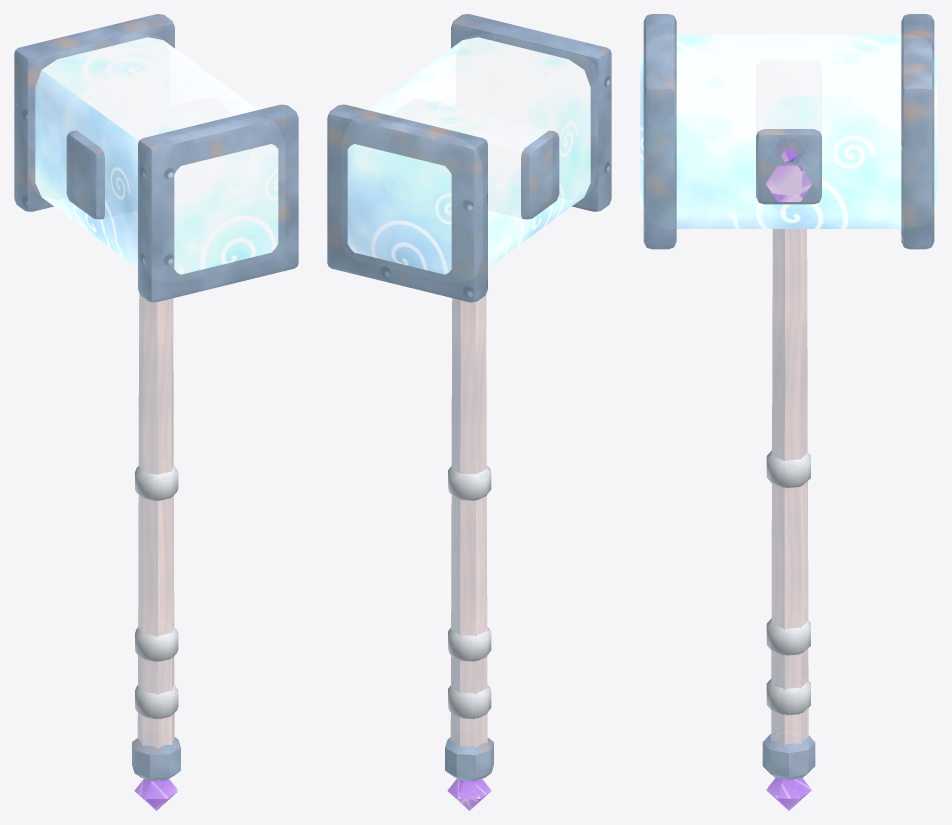
Rendered from sledgehammer_t3.gltf.
The picture shows the model from 3 angles, left to right: view 1: azimuth 30°, elevation 25°; view 2: azimuth 150°, elevation 25°; view 3: azimuth 270°, elevation 25°; orthographic projection. The views are drawn at different scales.
Visible parts, largest first — view 1: sledgehammer_t3_mesh; view 2: sledgehammer_t3_mesh; view 3: sledgehammer_t3_mesh.
Part boxes in pixels (bbox=[...]): sledgehammer_t3_mesh: bbox=[14, 14, 298, 810]; sledgehammer_t3_mesh: bbox=[327, 14, 611, 810]; sledgehammer_t3_mesh: bbox=[640, 14, 937, 810].
Size of the model in its own units: 0.297 by 1.27 by 0.45.
5 materials, 5 textured.
